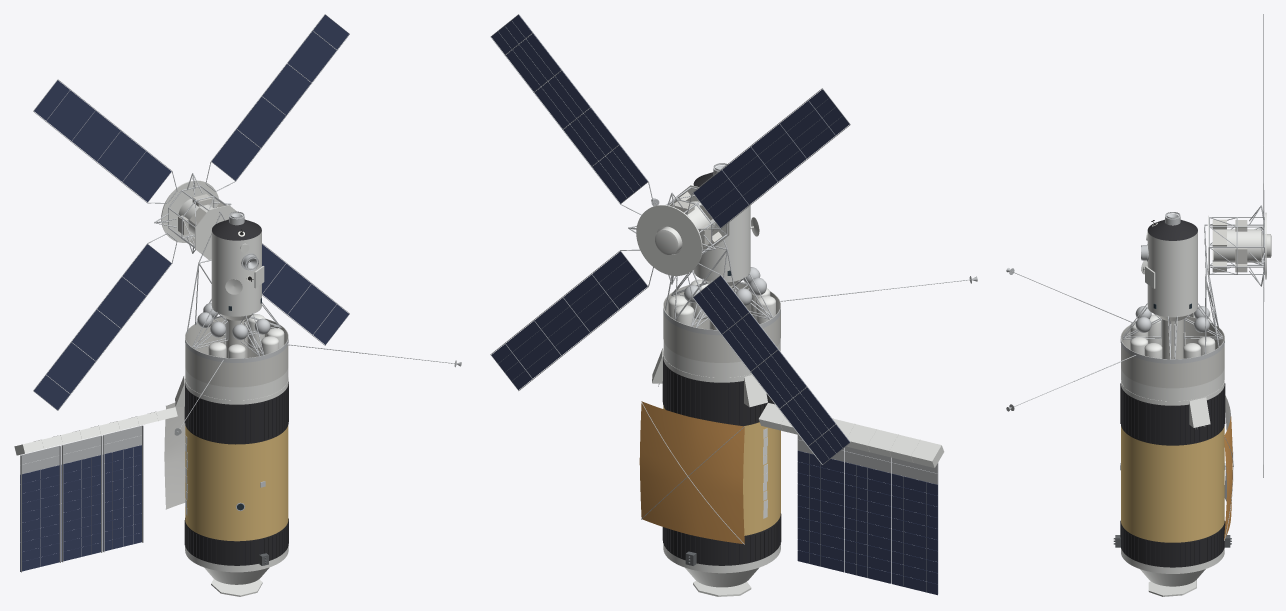
Rendered from workshop.lod1.glb.
The picture shows the model from 3 angles, left to right: view 1: azimuth 30°, elevation 25°; view 2: azimuth 150°, elevation 25°; view 3: azimuth 270°, elevation 25°; orthographic projection. The views are drawn at different scales.
Visible parts, largest first — view 1: SAS_Wing1_Cells, OWS_HabitationWall, OWS_AftSkirtInner, ATM_Wing_3_Cells, ATM_Wing_1_Cells, ATM_Wing_4_Cells, SAS_Wing1_ModuleLines, ATM_Wing_2_Cells, FAS_InnerWallAndForwardDome, MDA_EarthObservationKit, ATM_Canister, Parasol_Underside (+12 smaller); view 2: SAS_Wing1_Cells, Parasol_Canopy, ATM_Wing_3_Cells, ATM_Wing_1_Cells, ATM_Wing_2_Cells, ATM_Wing_4_Cells, OWS_AftSkirtInner, ATM_Canister, OWS_HabitationWall, SAS_Wing1_BeamFairing, FAS_InnerWallAndForwardDome, SAS_Wing1_ModuleLines (+12 smaller); view 3: OWS_HabitationWall, OWS_AftSkirtInner, FAS_InnerWallAndForwardDome, MDA_EarthObservationKit, ATM_Canister, AM_Bellows, FAS_OxygenTanks, IU_Skin, OWS_SkirtBands, ATM_Outriggers, OWS_RefrigerationRadiator, ATM_RackEquipment (+7 smaller).
Boxes of the visible parts, bbox=[...] form: SAS_Wing1_Cells: bbox=[20, 445, 141, 571]; OWS_HabitationWall: bbox=[185, 425, 288, 541]; OWS_AftSkirtInner: bbox=[184, 382, 288, 565]; ATM_Wing_3_Cells: bbox=[34, 244, 171, 409]; ATM_Wing_1_Cells: bbox=[211, 15, 348, 180]; ATM_Wing_4_Cells: bbox=[34, 80, 171, 202]; SAS_Wing1_ModuleLines: bbox=[20, 425, 143, 572]; ATM_Wing_2_Cells: bbox=[262, 244, 348, 344]; FAS_InnerWallAndForwardDome: bbox=[185, 316, 288, 387]; MDA_EarthObservationKit: bbox=[211, 230, 264, 299]; ATM_Canister: bbox=[161, 180, 239, 259]; Parasol_Underside: bbox=[164, 402, 185, 509]; SAS_Wing1_Cells: bbox=[797, 450, 937, 595]; Parasol_Canopy: bbox=[639, 401, 744, 543]; ATM_Wing_3_Cells: bbox=[693, 275, 849, 464]; ATM_Wing_1_Cells: bbox=[491, 15, 647, 203]; ATM_Wing_2_Cells: bbox=[491, 251, 647, 389]; ATM_Wing_4_Cells: bbox=[693, 89, 849, 227]; OWS_AftSkirtInner: bbox=[662, 357, 781, 565]; ATM_Canister: bbox=[636, 185, 729, 275]; OWS_HabitationWall: bbox=[663, 405, 780, 535]; SAS_Wing1_BeamFairing: bbox=[758, 403, 944, 467]; FAS_InnerWallAndForwardDome: bbox=[663, 282, 780, 362]; SAS_Wing1_ModuleLines: bbox=[797, 435, 938, 593]; OWS_HabitationWall: bbox=[1121, 426, 1224, 542]; OWS_AftSkirtInner: bbox=[1120, 383, 1225, 567]; FAS_InnerWallAndForwardDome: bbox=[1121, 316, 1224, 388]; MDA_EarthObservationKit: bbox=[1141, 231, 1197, 300]; ATM_Canister: bbox=[1208, 212, 1271, 279]; AM_Bellows: bbox=[1122, 303, 1222, 359]; FAS_OxygenTanks: bbox=[1130, 314, 1215, 358]; IU_Skin: bbox=[1121, 368, 1224, 401]; OWS_SkirtBands: bbox=[1121, 382, 1224, 573]; ATM_Outriggers: bbox=[1209, 205, 1264, 286]; OWS_RefrigerationRadiator: bbox=[1140, 569, 1205, 596]; ATM_RackEquipment: bbox=[1212, 219, 1247, 272].
Size of the model in its own units: 26.73 by 35.71 by 16.89.
